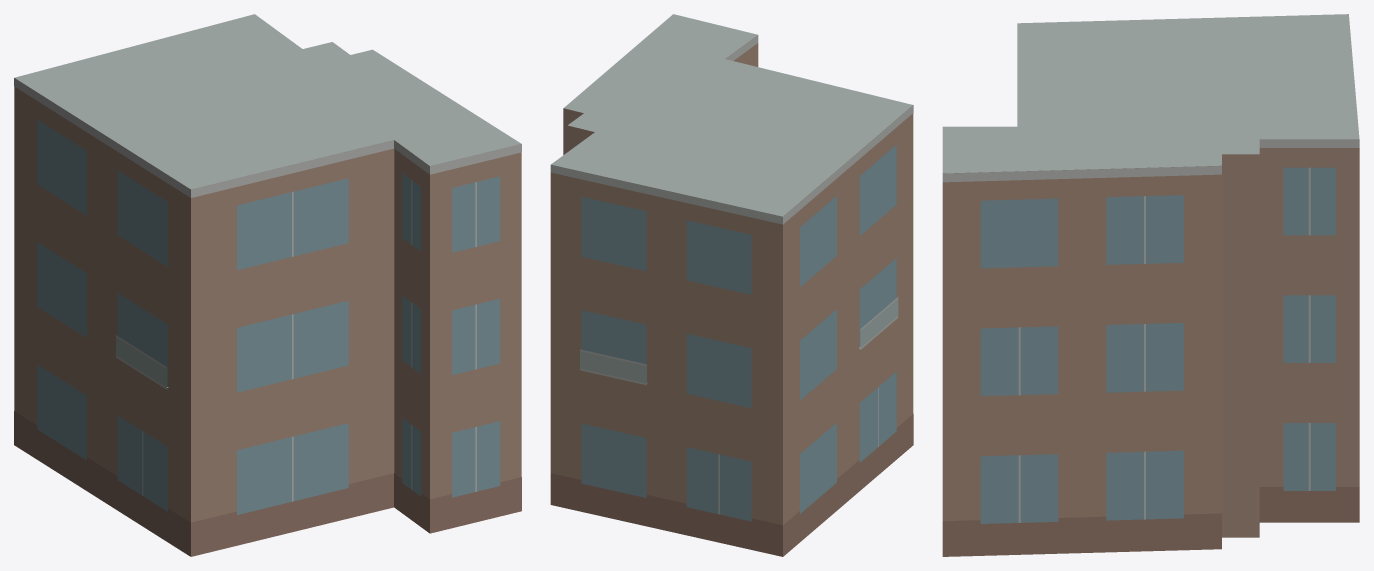
The model's file is survey-upis-32477117.glb.
3 views of the same model, side by side, from view 1: azimuth 30°, elevation 25°; view 2: azimuth 150°, elevation 25°; view 3: azimuth 270°, elevation 25° (orthographic). The views are drawn at different scales.
Visible parts, largest first — view 1: survey-upis-32477117.tmp; view 2: survey-upis-32477117.tmp; view 3: survey-upis-32477117.tmp.
Part boxes in pixels (left/top/right/bottom): survey-upis-32477117.tmp: left=14, top=14, right=521, bottom=556; survey-upis-32477117.tmp: left=550, top=14, right=913, bottom=556; survey-upis-32477117.tmp: left=942, top=14, right=1359, bottom=556.
Size of the model in its own units: 9.37 by 10.5 by 10.36.
